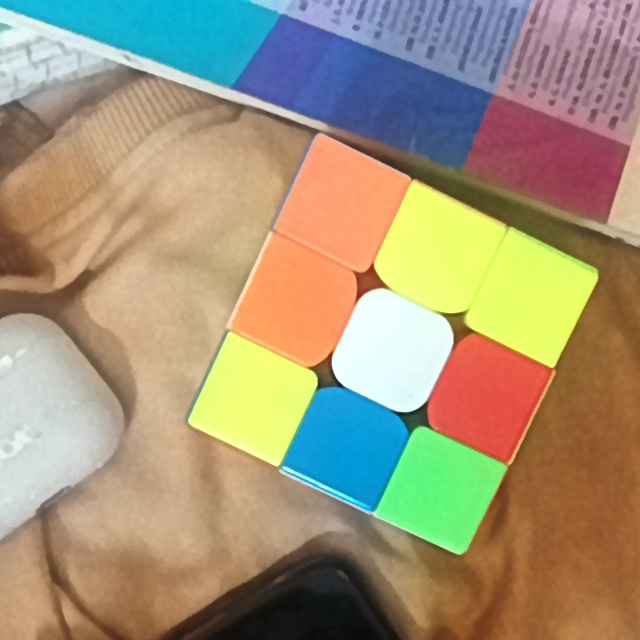tile: (302, 164, 381, 244), (257, 263, 338, 340), (402, 218, 483, 290), (496, 260, 568, 338), (218, 362, 291, 437), (354, 315, 425, 391), (451, 362, 523, 435), (404, 454, 474, 525), (311, 411, 385, 478)
